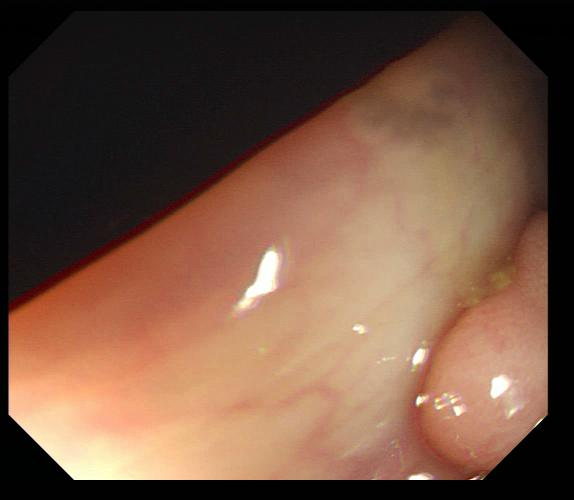polyp: (417, 215, 548, 473)
